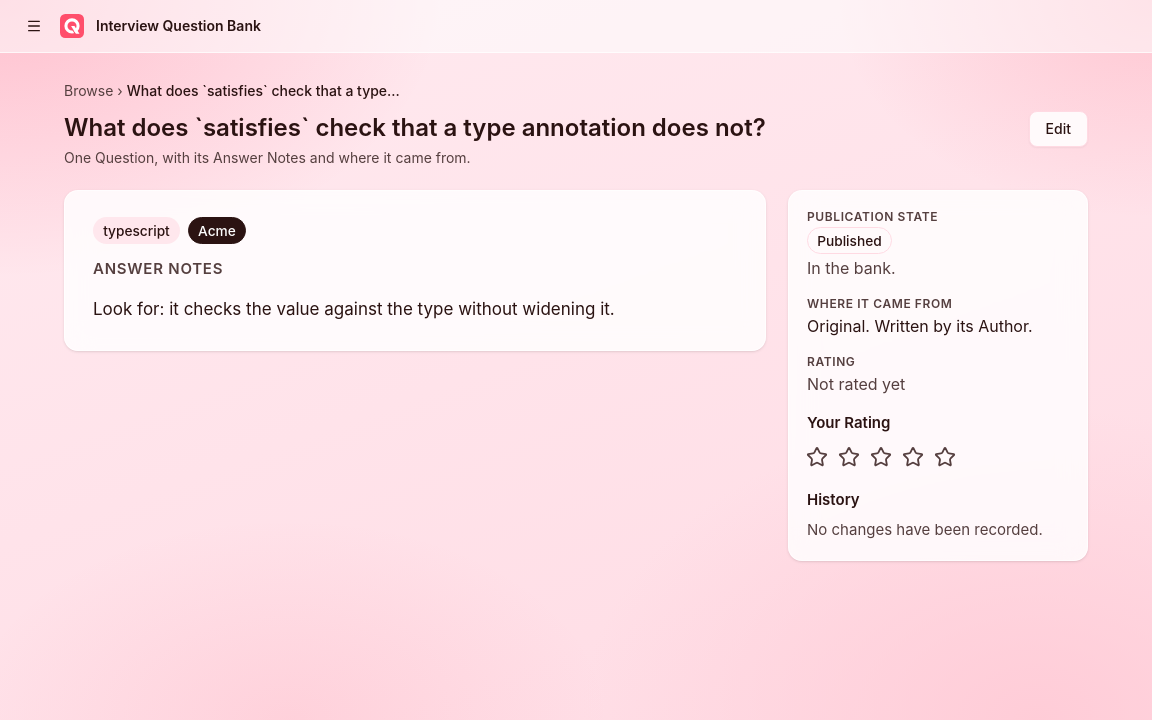
changing a Question's Clients by editing it › sends nothing when a Client is removed and chosen again
This screenshot has width=1152, height=720.
Click the link "Edit" at (1058, 129), box [1029,111,1088,147]
(page scrolled)
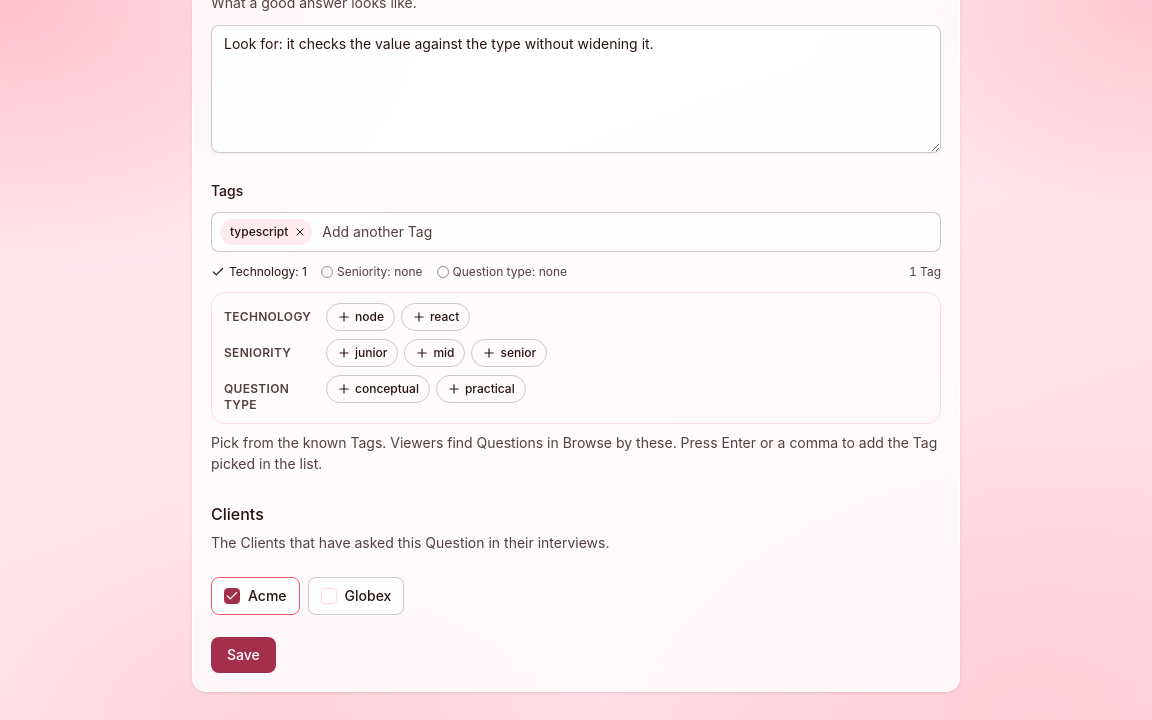
Click the checkbox named "Acme" next to "Acme" at (232, 596), box [224,588,240,604]
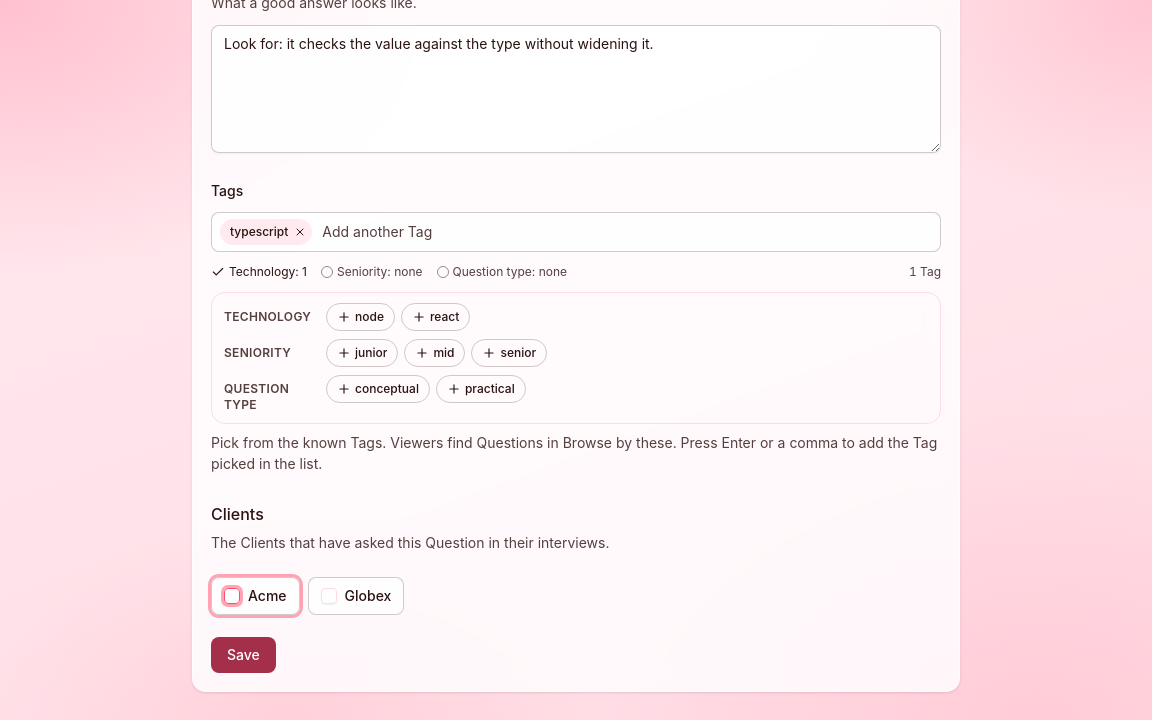
Click the checkbox named "Acme" next to "Acme" at (232, 596), box [224,588,240,604]
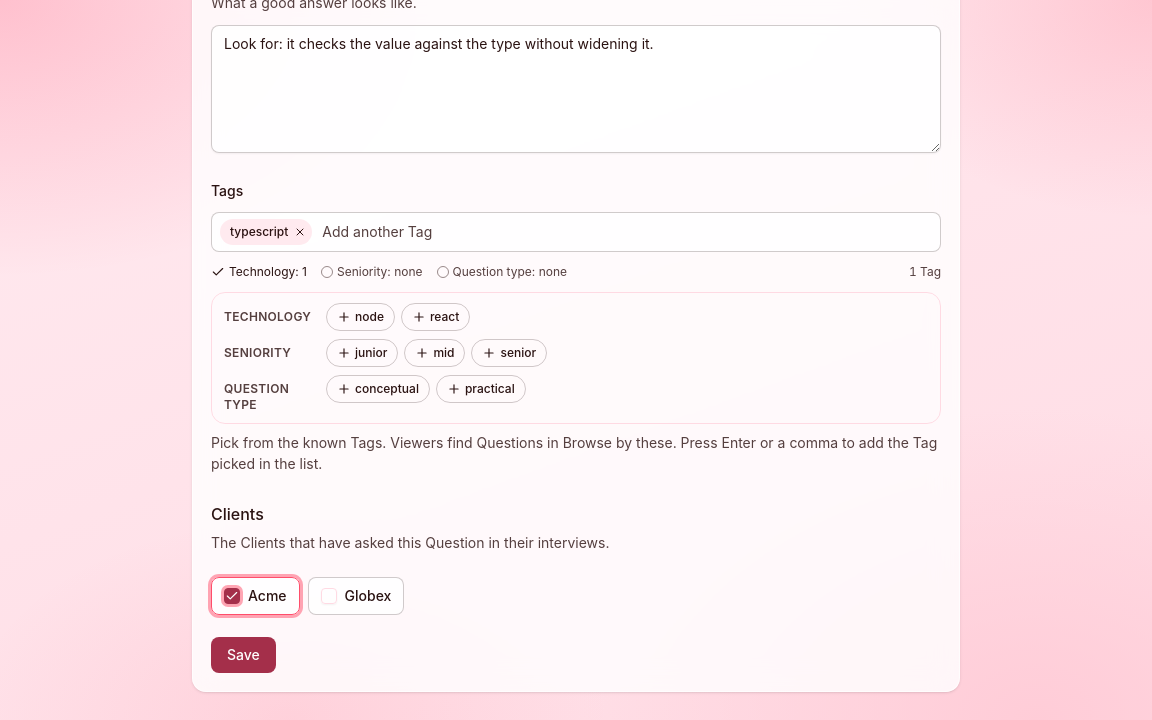
Click the button "Save" at (243, 655), box [211,637,276,673]
(page scrolled)
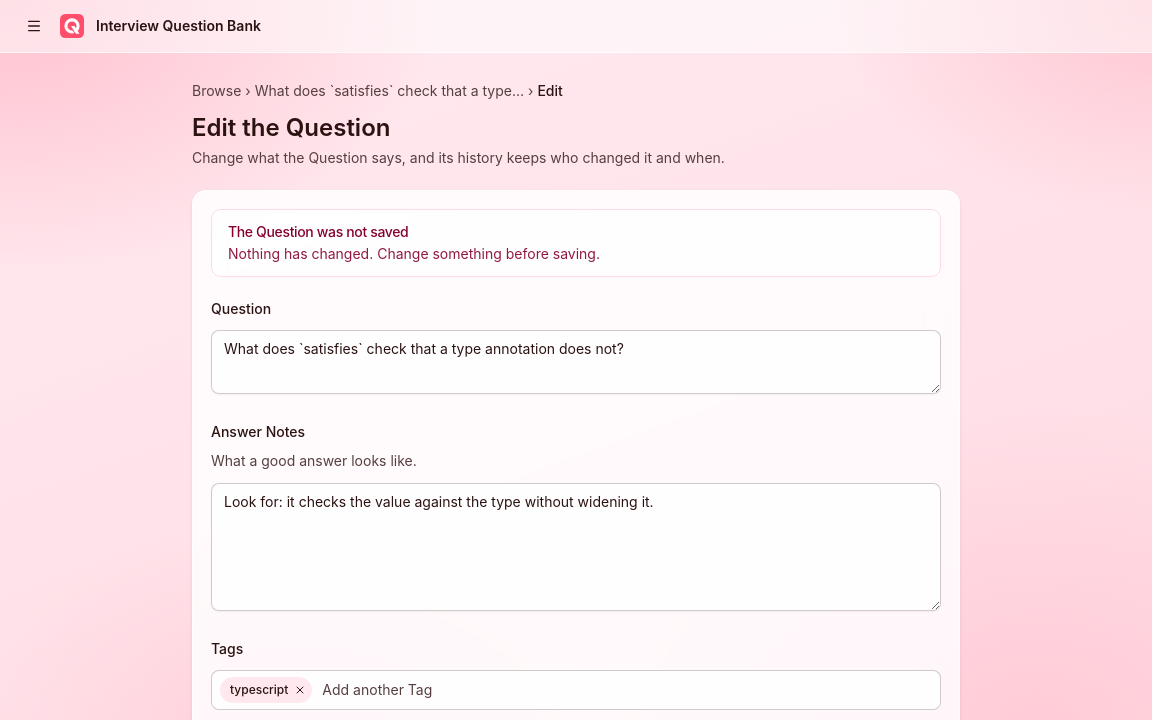
Result: the text "Nothing has changed. Change something before saving." is shown at [228,245,600,262]
